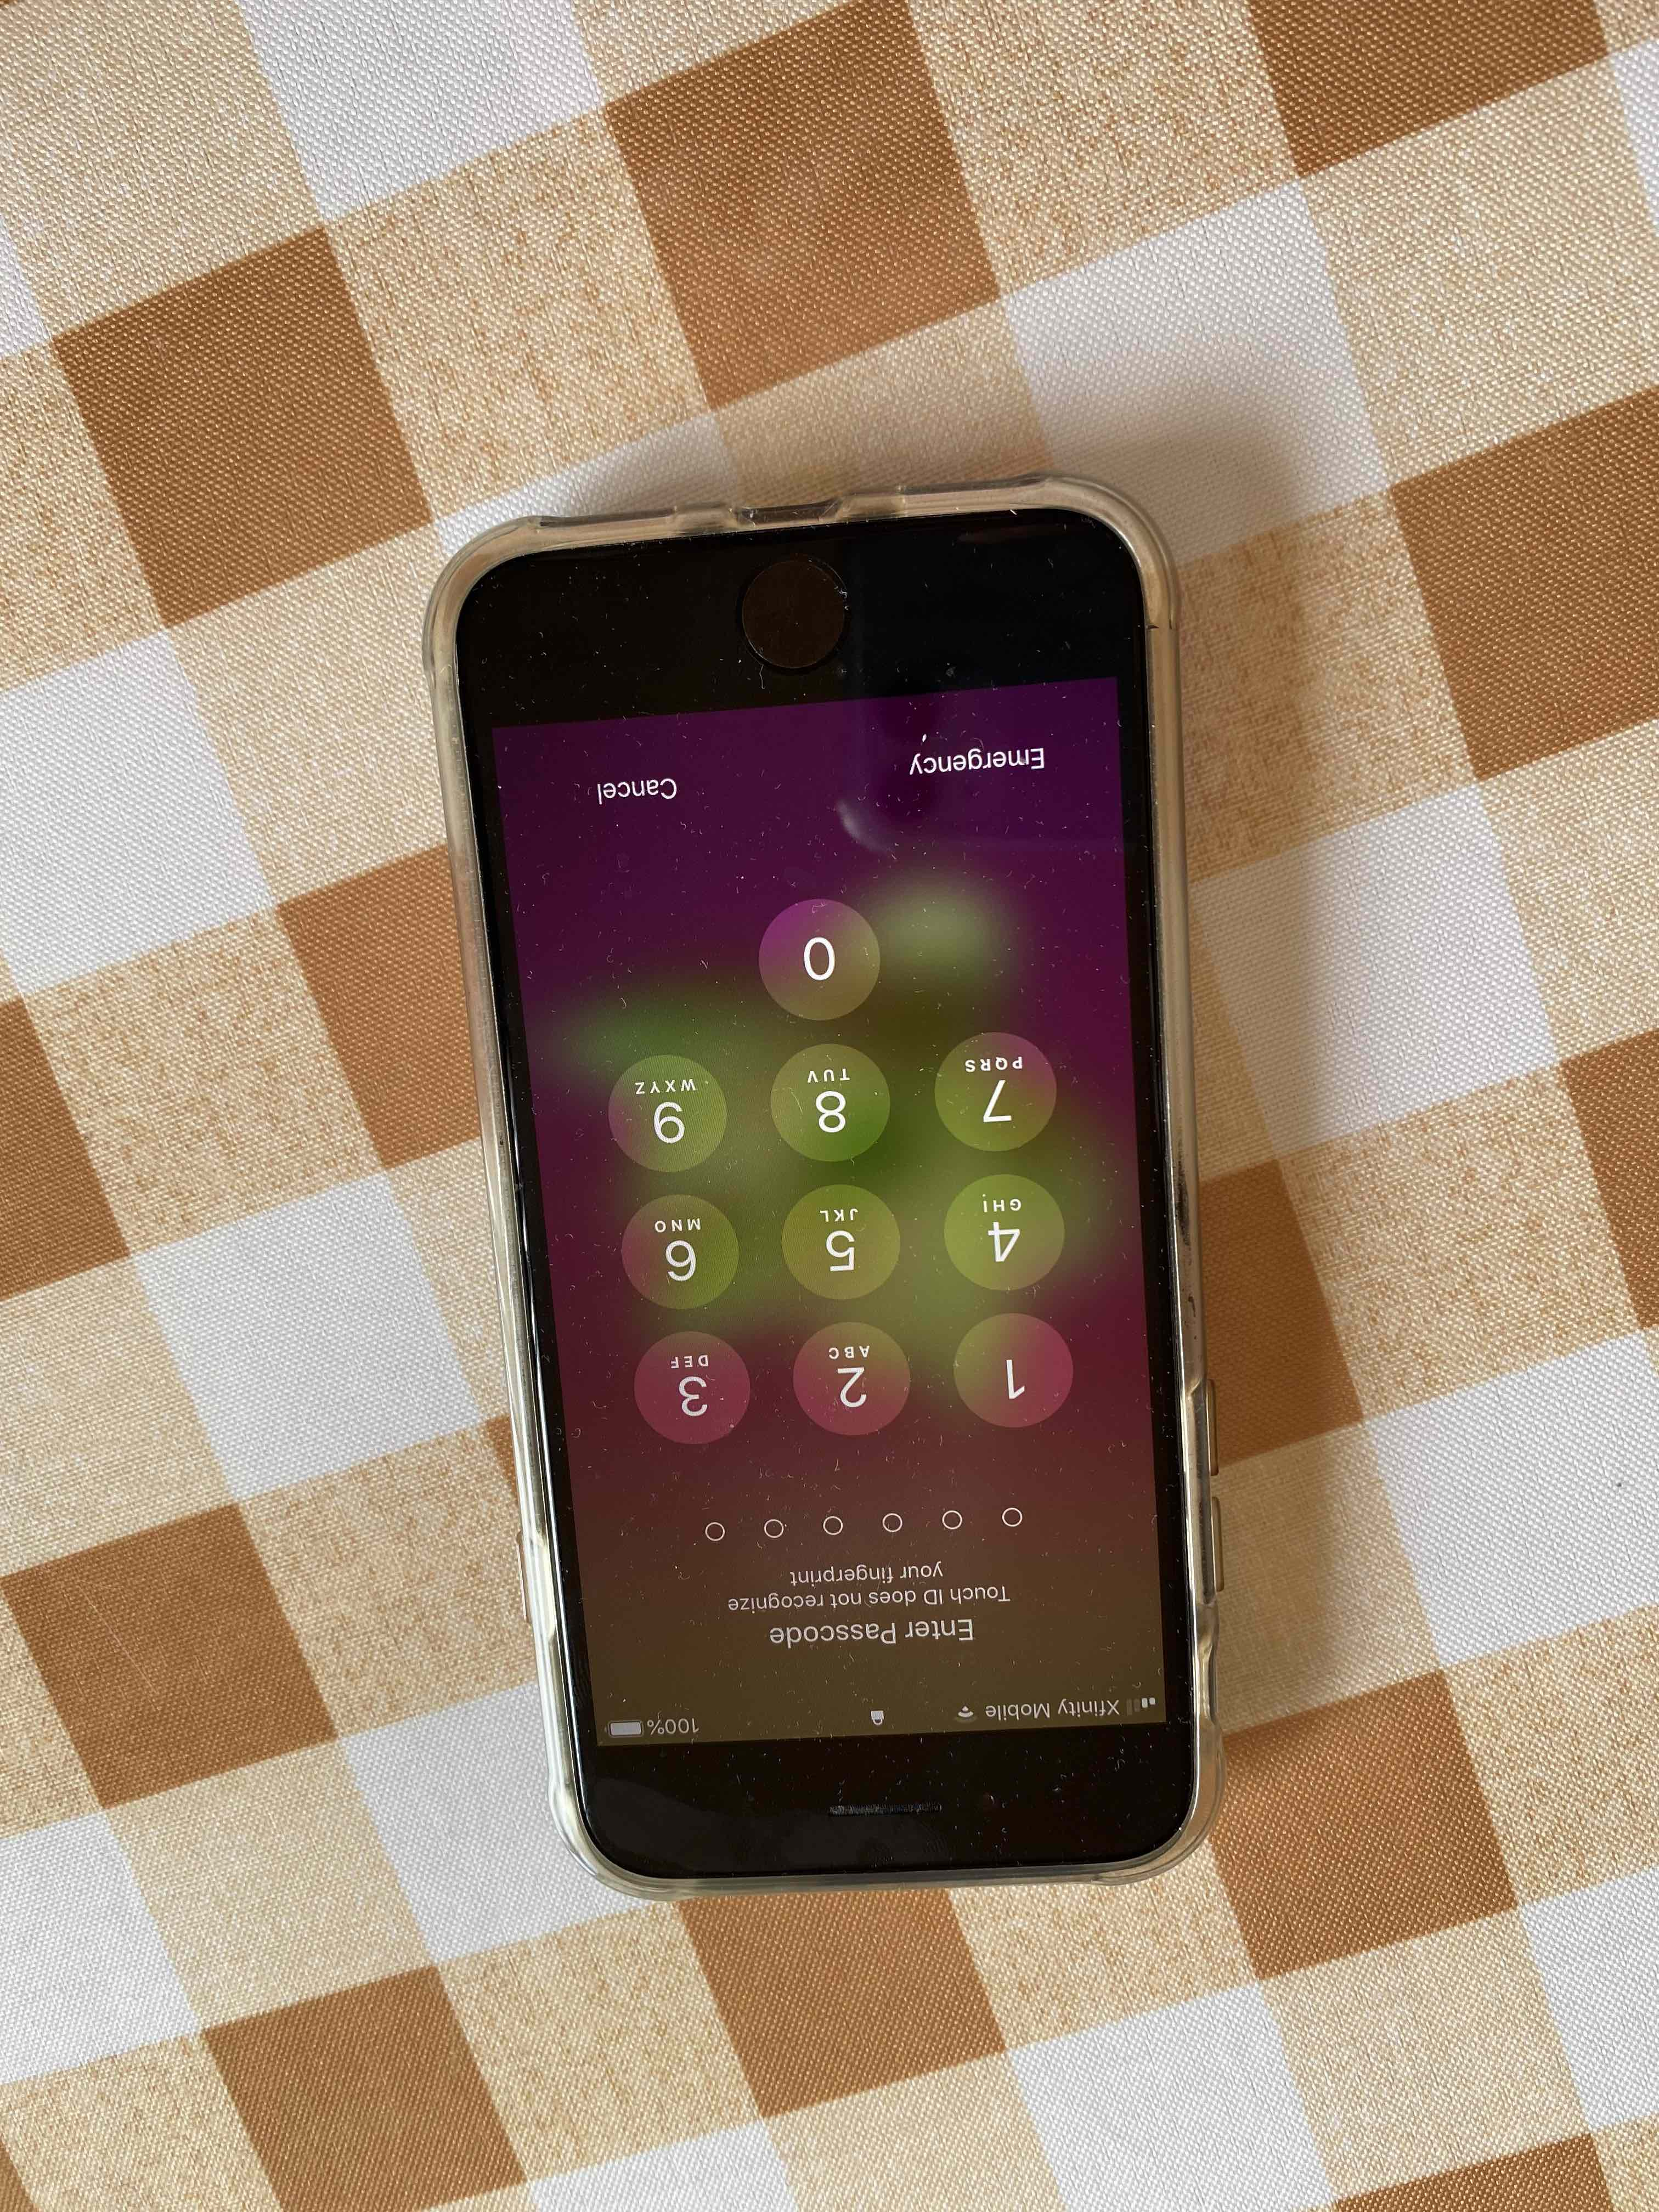Cell Phone: (420, 469, 1236, 1898)
